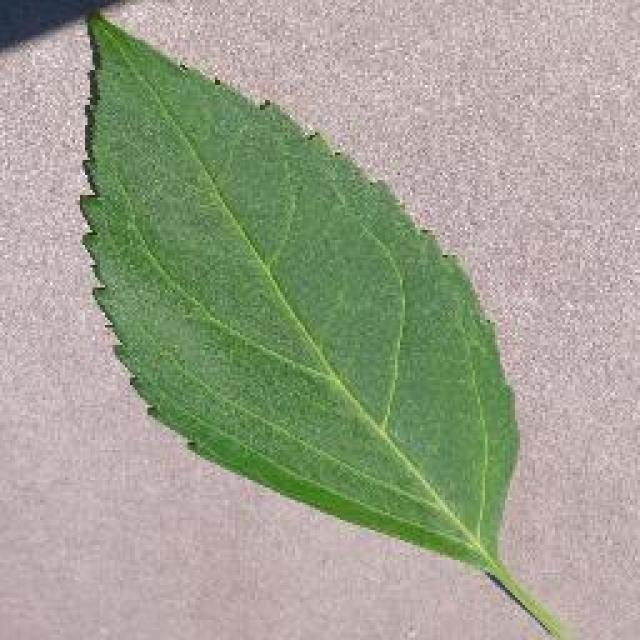Cherry___healthy: (60, 5, 505, 521)
